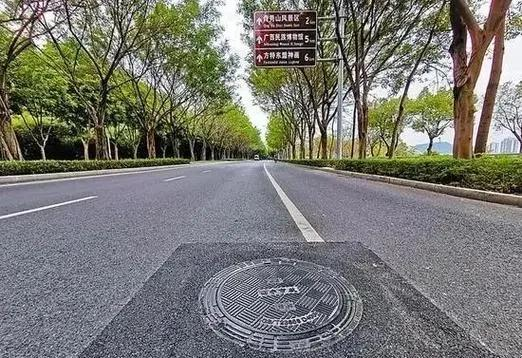wellcover: (203, 256, 375, 358)
